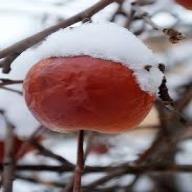apple: (21, 54, 164, 138)
